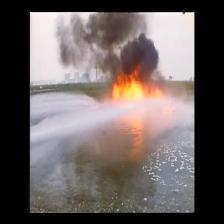fire: (113, 77, 163, 99)
smoke: (66, 12, 157, 74)
